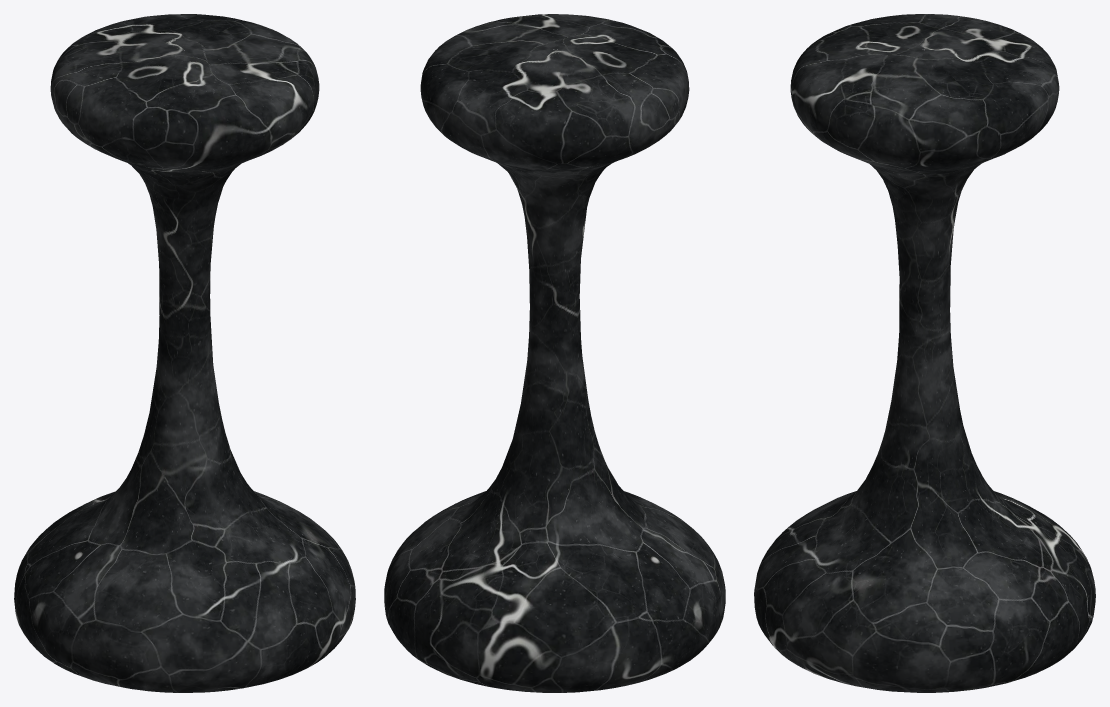
File: rook-black.glb
3 views of the same model, side by side, from view 1: azimuth 30°, elevation 25°; view 2: azimuth 150°, elevation 25°; view 3: azimuth 270°, elevation 25° (orthographic).
Visible parts, largest first — view 1: Serpentina_rook_black; view 2: Serpentina_rook_black; view 3: Serpentina_rook_black.
Part boxes in pixels (x1,y1,x2,y2): Serpentina_rook_black: (14,14,355,692); Serpentina_rook_black: (384,14,725,692); Serpentina_rook_black: (754,14,1095,692).
Bounding box in the file's own units: 0.6536 × 1.22 × 0.6539.
Materials: 1 (1 with a texture image).
